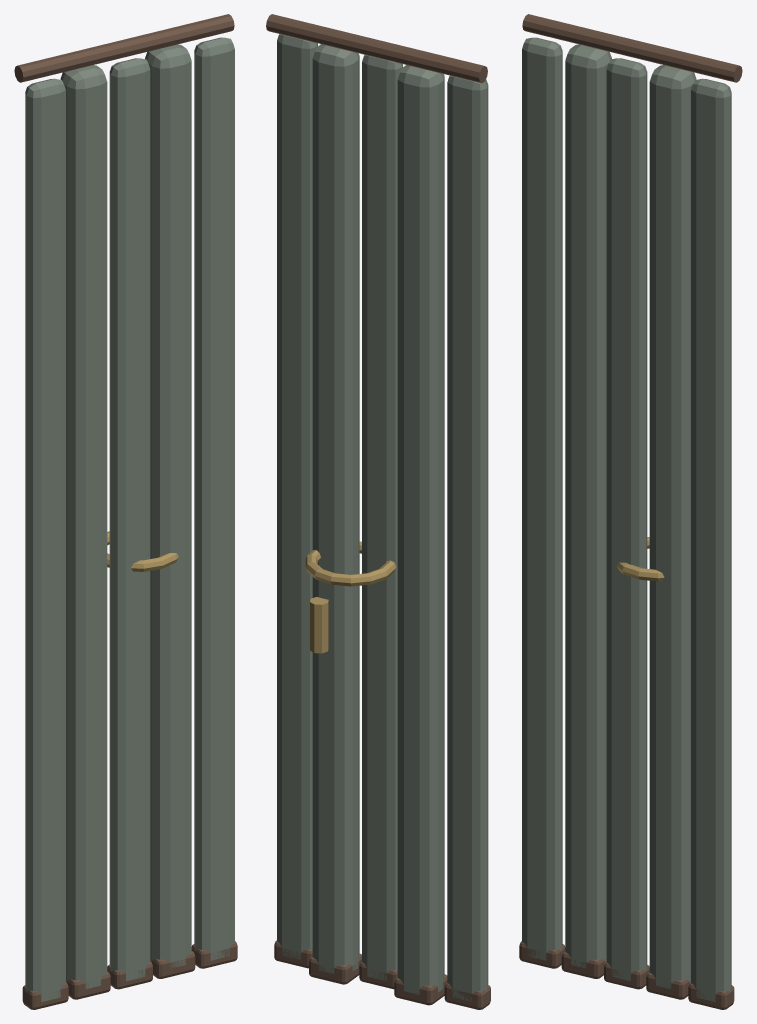
3 views of the same model, side by side, from view 1: azimuth 30°, elevation 25°; view 2: azimuth 150°, elevation 25°; view 3: azimuth 330°, elevation 25° (orthographic).
Visible parts, largest first — view 1: drapePanel; view 2: drapePanel; view 3: drapePanel.
Boxes of the visible parts, <box> form: drapePanel: <box>14,14,237,1009</box>; drapePanel: <box>266,14,490,1009</box>; drapePanel: <box>519,14,742,1009</box>.
Size of the model in its own units: 0.55 by 2.34 by 0.2074.
